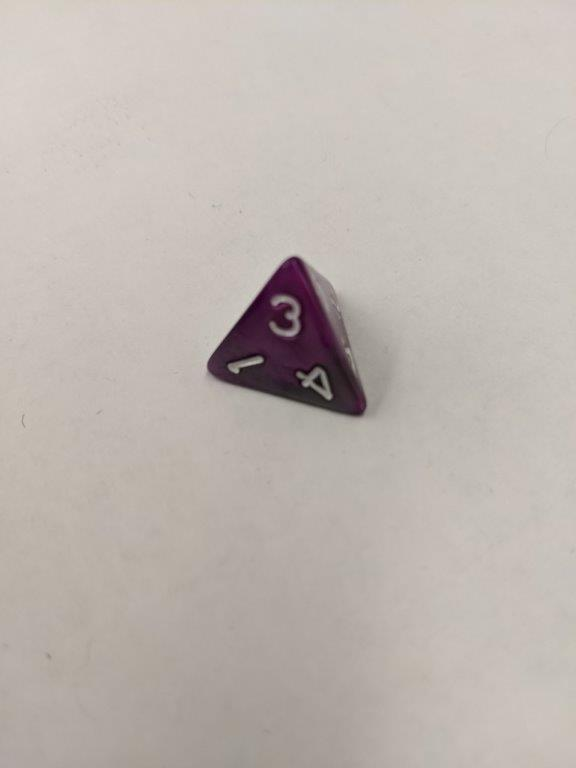d4-3: (204, 254, 371, 425)
